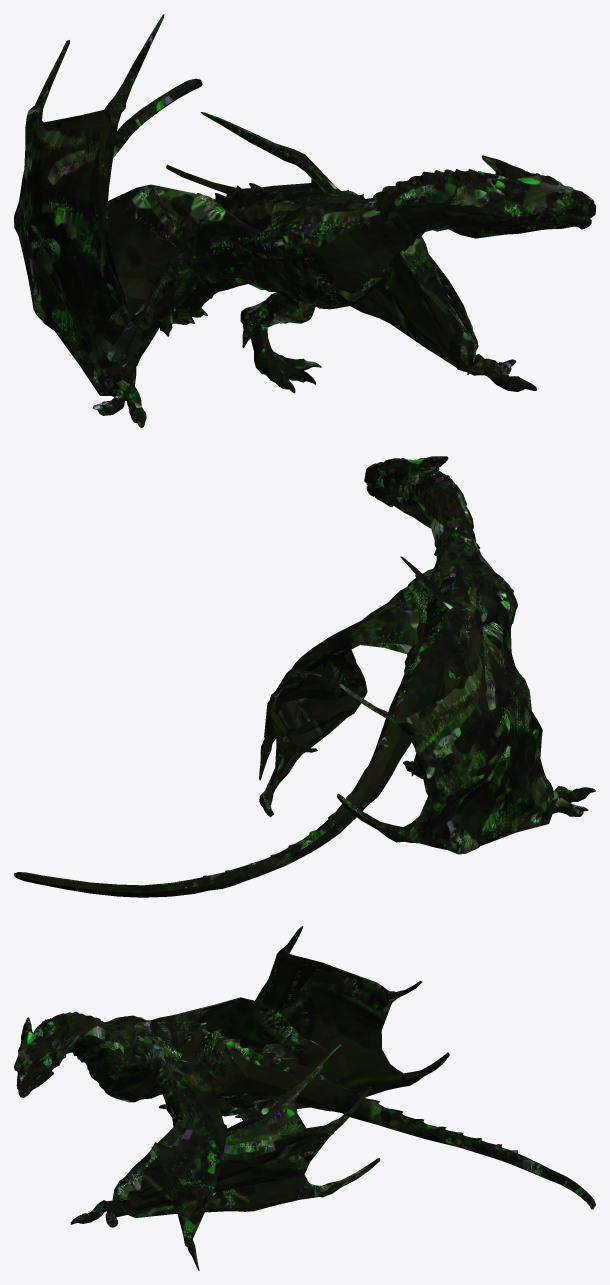
File: frame_0003_uv.obj
3 renders of one model, top to bottom at view 1: azimuth 30°, elevation 25°; view 2: azimuth 150°, elevation 25°; view 3: azimuth 270°, elevation 25°, orthographic. The views are drawn at different scales.
Visible parts, largest first — view 1: pMesh1; view 2: pMesh1; view 3: pMesh1.
Part boxes in pixels (x1=…): pMesh1: x1=14, y1=14, x2=595, y2=427; pMesh1: x1=14, y1=456, x2=595, y2=897; pMesh1: x1=14, y1=926, x2=595, y2=1270.
Size of the model in its own units: 1.17 by 1.07 by 2.15.
